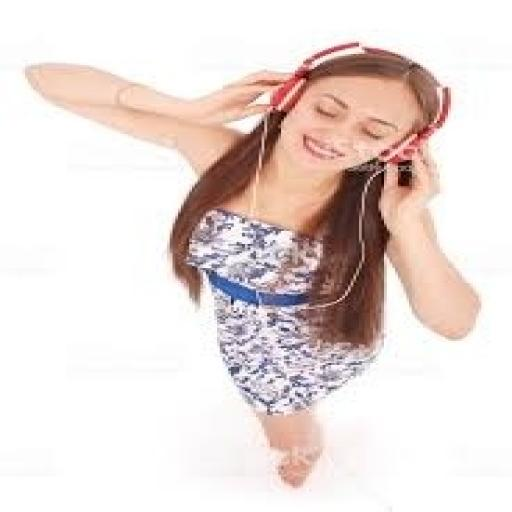listening_to_music: (19, 41, 487, 495)
